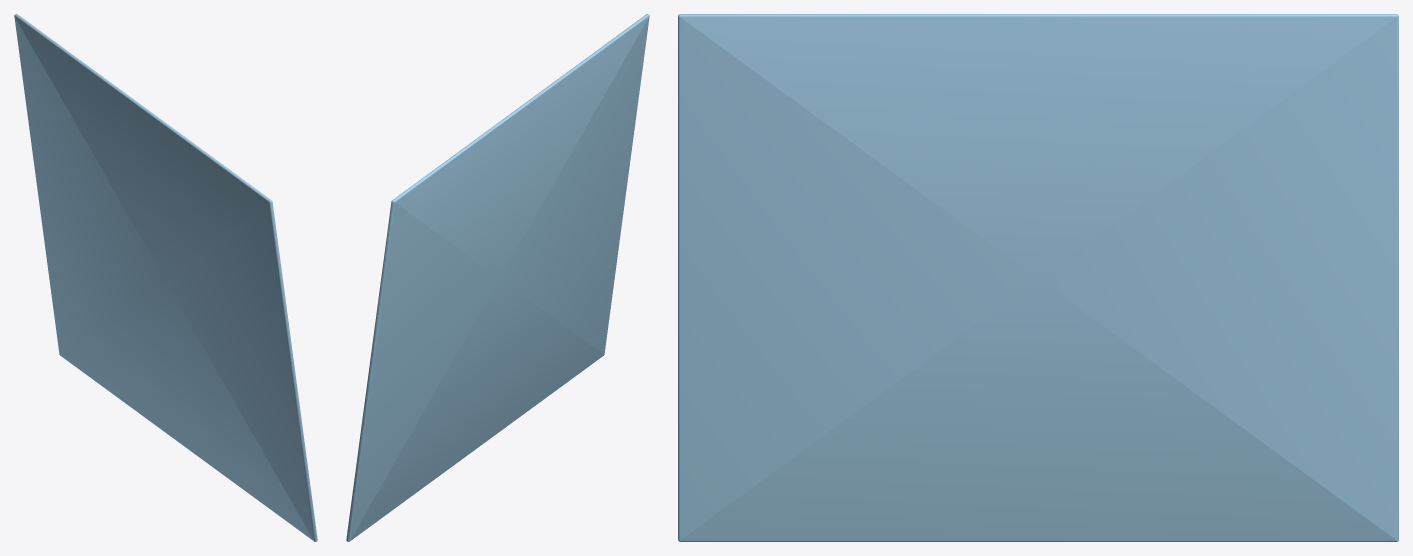
The model's file is golf_cart_glass.dae.
3 renders of one model, left to right at view 1: azimuth 30°, elevation 25°; view 2: azimuth 150°, elevation 25°; view 3: azimuth 270°, elevation 25°, orthographic. The views are drawn at different scales.
Parts seen in each view (by area): view 1: cart; view 2: cart; view 3: cart.
Boxes of the visible parts, bbox=[...] form: cart: bbox=[14, 14, 317, 541]; cart: bbox=[346, 14, 649, 541]; cart: bbox=[678, 14, 1398, 541].
Bounding box in the file's own units: 0.1118 × 1.02 × 0.7748.
